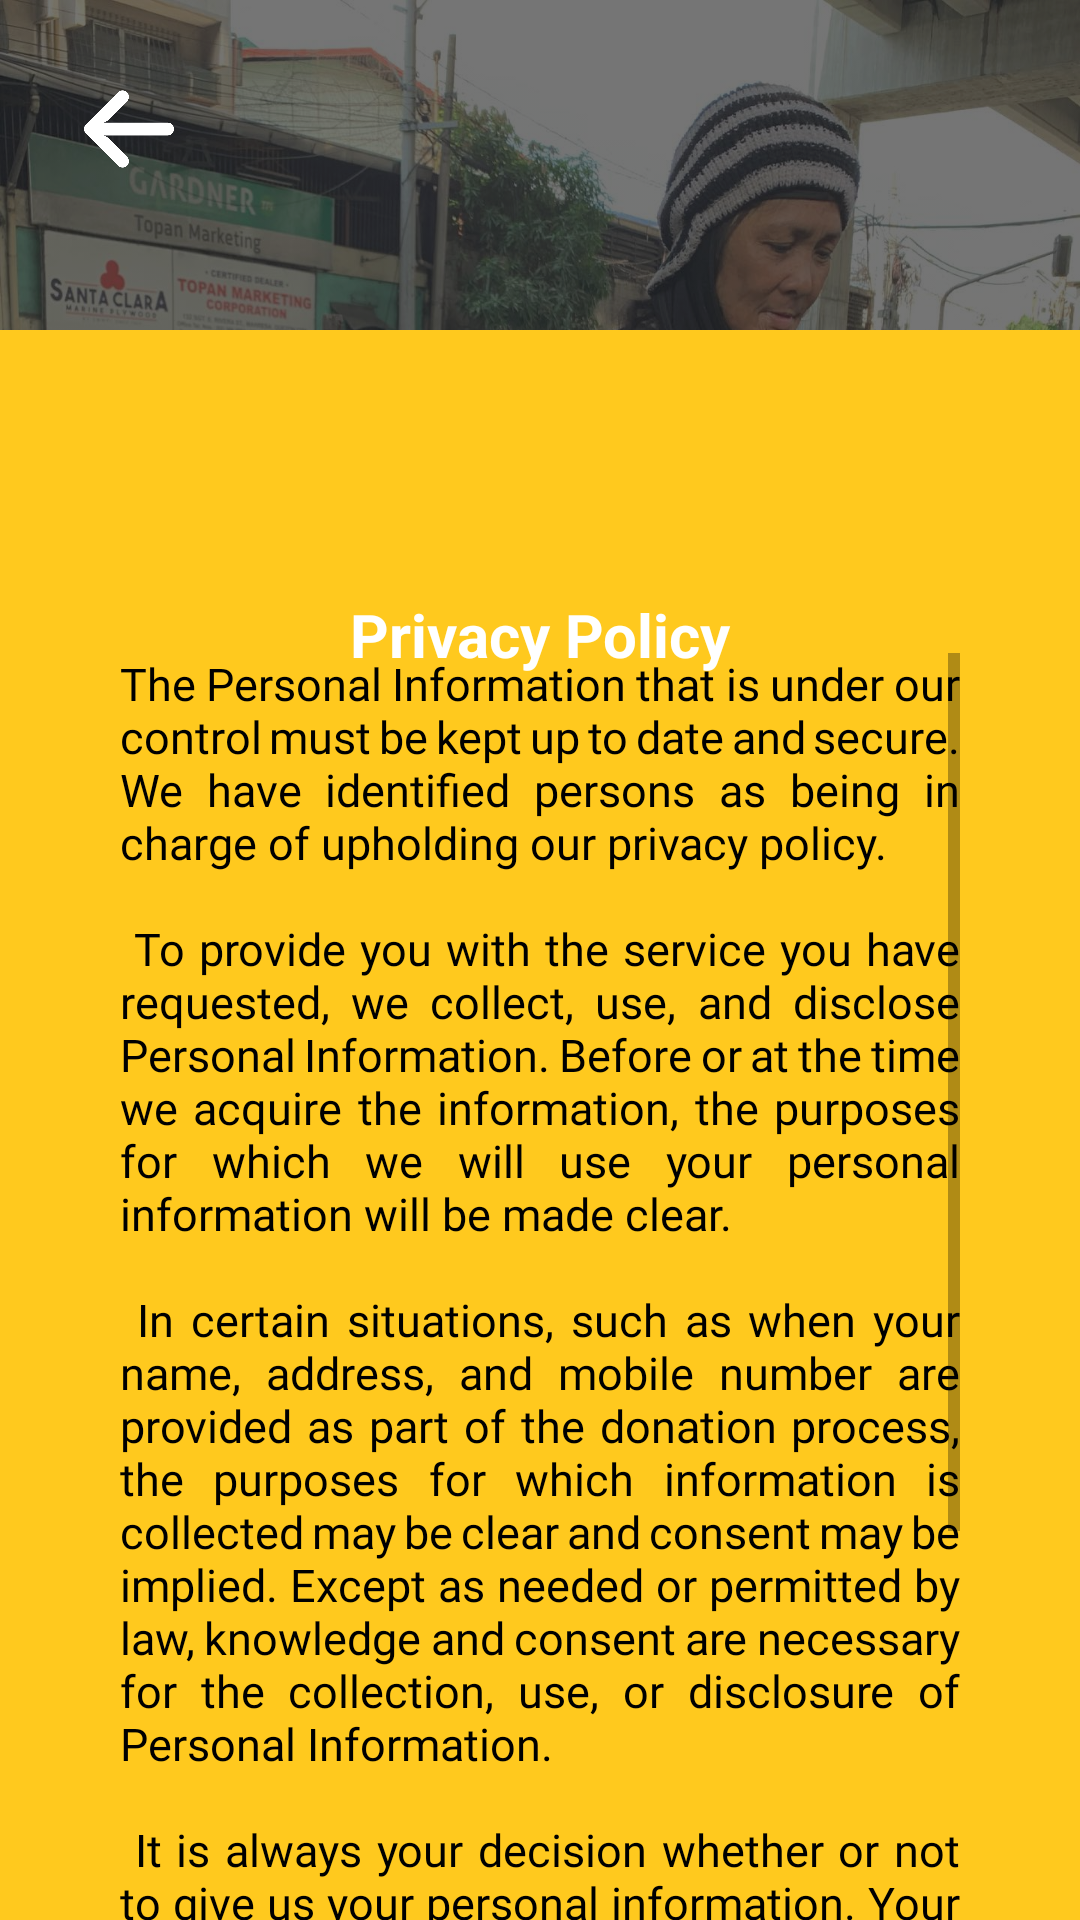

Icons on this 1080*1920 Android screen, each with the point to tap as (x=x, y=y):
arrow back: (x=129, y=129)
